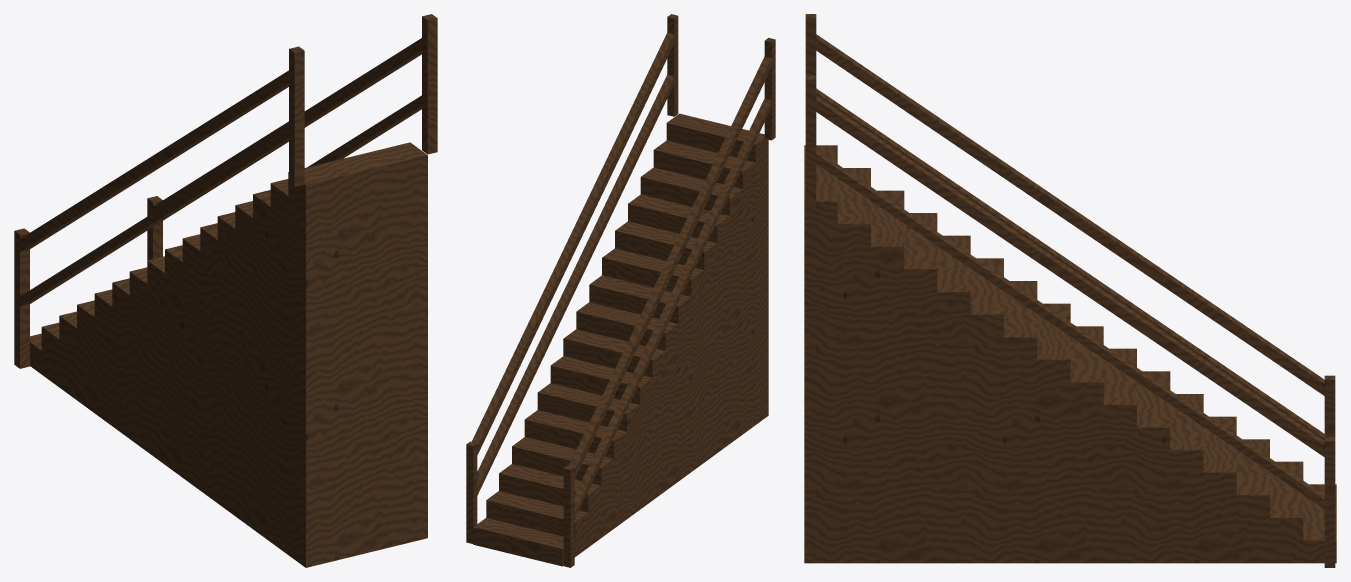
The model's file is stair_straight_3m_with_rails.glb.
3 renders of one model, left to right at view 1: azimuth 30°, elevation 25°; view 2: azimuth 150°, elevation 25°; view 3: azimuth 270°, elevation 25°, orthographic. The views are drawn at different scales.
Visible parts, largest first — view 1: step_01, step_02, step_03, step_04, step_05, step_06, step_07, step_08, step_09, step_10, step_11, step_12 (+12 smaller); view 2: step_01, step_02, step_03, rail_top_+1, rail_top_-1, step_04, rail_mid_+1, rail_mid_-1, step_05, step_06, step_07, step_08 (+12 smaller); view 3: step_01, step_02, step_03, step_04, step_05, step_06, step_07, rail_top_-1, rail_top_+1, step_08, step_09, rail_mid_+1 (+12 smaller).
Boxes of the visible parts, x1,y1,x2,y2 form: step_01: [30, 333, 427, 567]; step_02: [41, 322, 427, 543]; step_03: [59, 311, 427, 519]; step_04: [77, 300, 427, 495]; step_05: [94, 289, 427, 471]; step_06: [112, 278, 427, 447]; step_07: [129, 267, 427, 424]; step_08: [147, 256, 427, 400]; step_09: [165, 245, 427, 376]; step_10: [182, 234, 427, 352]; step_11: [200, 223, 427, 328]; step_12: [217, 212, 427, 304]; step_01: [473, 398, 768, 566]; step_02: [486, 381, 768, 539]; step_03: [499, 363, 768, 512]; rail_top_+1: [472, 31, 676, 458]; rail_top_-1: [569, 56, 771, 482]; step_04: [512, 346, 768, 485]; rail_mid_+1: [475, 73, 676, 499]; rail_mid_-1: [572, 98, 771, 523]; step_05: [524, 328, 768, 458]; step_06: [537, 311, 768, 431]; step_07: [550, 293, 768, 404]; step_08: [563, 276, 768, 377]; step_01: [804, 484, 1336, 563]; step_02: [804, 461, 1303, 540]; step_03: [804, 439, 1269, 517]; step_04: [804, 416, 1236, 495]; step_05: [804, 394, 1203, 472]; step_06: [804, 371, 1170, 450]; step_07: [804, 348, 1136, 427]; rail_top_-1: [811, 34, 1329, 399]; rail_top_+1: [811, 95, 1324, 456]; step_08: [804, 326, 1103, 404]; step_09: [804, 303, 1070, 382]; rail_mid_+1: [811, 150, 1324, 508].
Size of the model in its own units: 1.17 by 4.05 by 4.
Materials: 1 (1 with a texture image).
